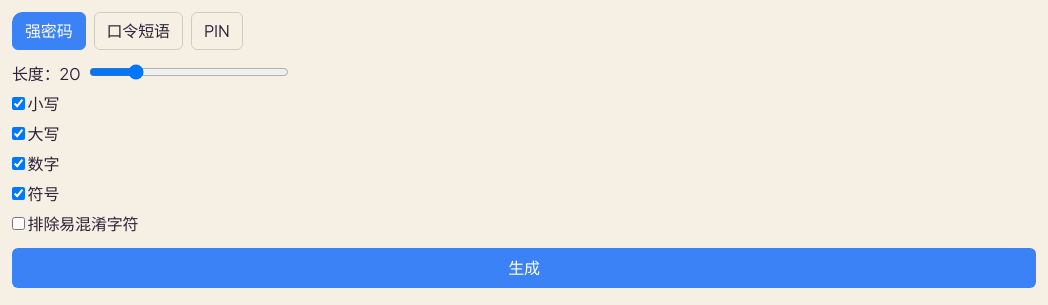
Test: PasswordGenerator › 切换到 passphrase tab 后显示词数输入
This screenshot has width=1048, height=305.
Click the button "口令短语" at (138, 31), box [94,12,183,50]
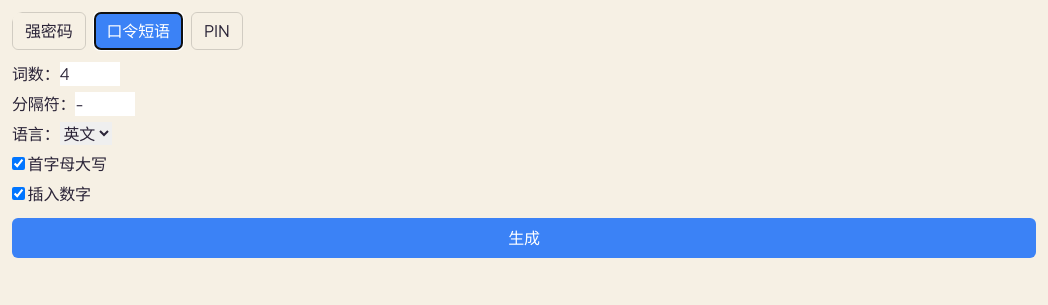
Check: the text "词数：" is shown, box [12,62,120,86]
